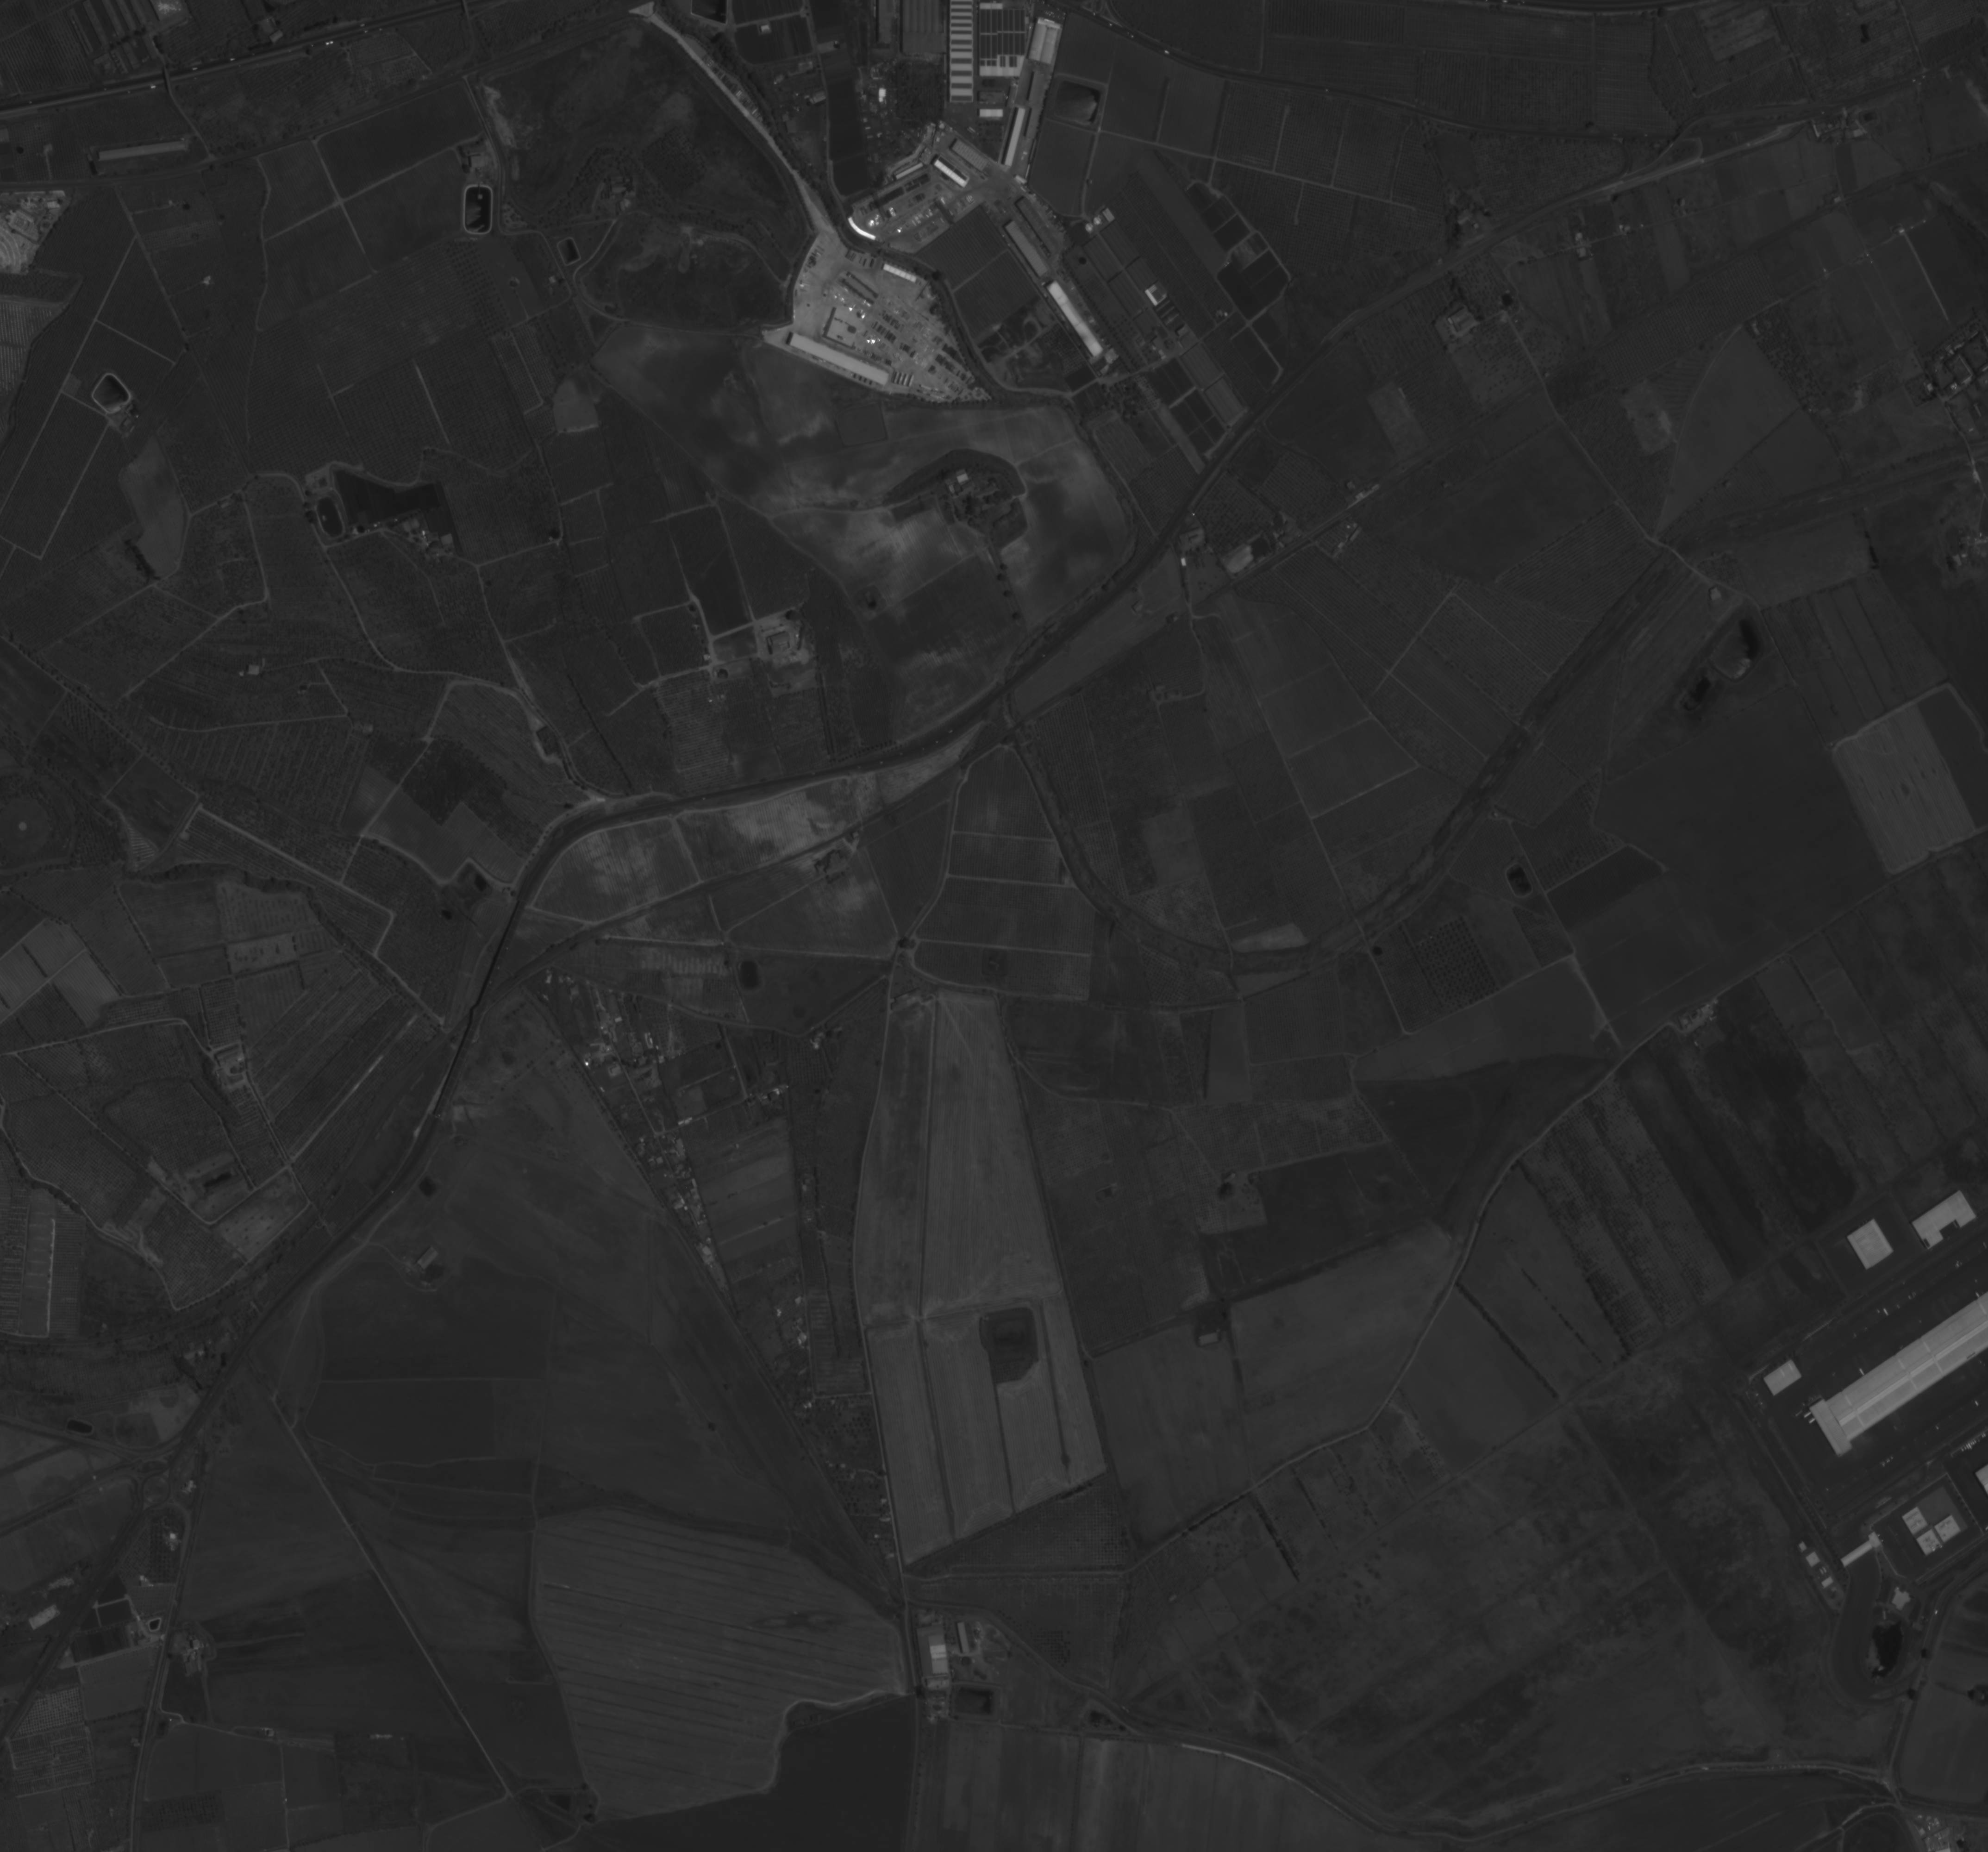roundabout: (139, 1471, 172, 1509)
